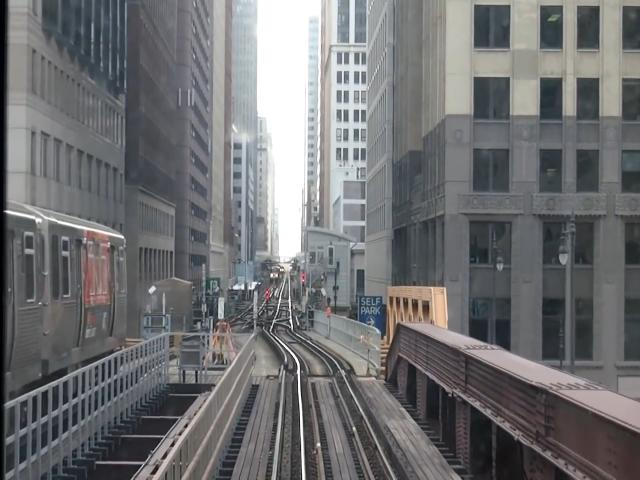signal light: (267, 289, 271, 319), (303, 274, 306, 296)
